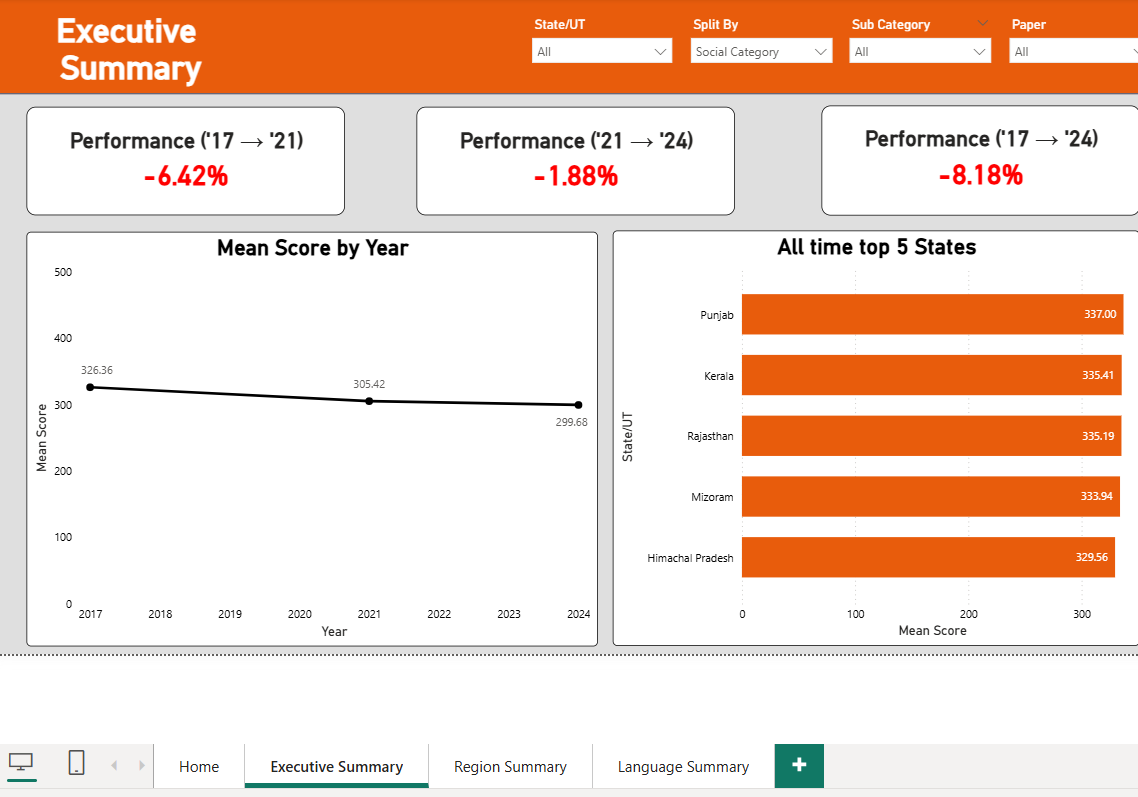

The dashboard page shown, as its layout file describes it:
{"tool":"powerbi","page":{"name":"Executive Summary","canvas":[1280,720],"ordinal":1},"visuals":[{"type":"lineChart","title":"Mean Score by Year","fields":{"Category":["NAS & Parakh Data Combined.Year"],"Y":["Avg(NAS & Parakh Data Combined.Mean Score)"]},"box":[36.1,256.3,627,455.3],"z":0},{"type":"shape","box":[0,0,1280,105.7],"z":1000},{"type":"slicer","fields":{"Values":["NAS & Parakh Data Combined.State/UT"]},"box":[580.3,14.8,173.8,75.4],"z":2000},{"type":"slicer","fields":{"Values":["NAS & Parakh Data Combined.Paper"]},"box":[1104.9,14.8,175.4,75.4],"z":3000},{"type":"slicer","fields":{"Values":["NAS & Parakh Data Combined.Split By"]},"box":[754.1,14.8,175.4,75.4],"z":4000},{"type":"slicer","fields":{"Values":["NAS & Parakh Data Combined.Sub Category"]},"box":[929.5,14.8,175.4,75.4],"z":5000},{"type":"card","title":"Performance (''17 → ''21)","fields":{"Values":["NAS & Parakh Data Combined.Lift_2021"]},"box":[36.1,119.4,349.6,119.4],"z":6000},{"type":"card","title":"Performance (''21 → ''24)","fields":{"Values":["NAS & Parakh Data Combined.Lift 2024 vs 2021"]},"box":[464,119.4,349.6,119.4],"z":7000},{"type":"card","title":"Performance (''17 → ''24)","fields":{"Values":["NAS & Parakh Data Combined.Lift 2024 vs 2017"]},"box":[908.1,118.2,349.6,120.7],"z":8000},{"type":"card","fields":{"Values":["NAS & Parakh Data Combined.Executive Summary"]},"box":[0,0,301,105.7],"z":9000},{"type":"barChart","title":"All time top 5 States","fields":{"Category":["NAS & Parakh Data Combined.State/UT"],"Y":["Avg(NAS & Parakh Data Combined.Mean Score)"]},"box":[678.7,255.7,578.7,455.7],"z":11000}]}

Visuals, with their boxes on the page's 1280x720 design canvas (x1, y1, x2, y2). These are canvas units, not pixel positions in the 1138x797 screenshot, which may show the page scaled, cropped or inside an application window:
"Mean Score by Year" lineChart: [x1=36, y1=256, x2=663, y2=712]
shape: [x1=0, y1=0, x2=1280, y2=106]
slicer - NAS & Parakh Data Combined.State/UT: [x1=580, y1=15, x2=754, y2=90]
slicer - NAS & Parakh Data Combined.Paper: [x1=1105, y1=15, x2=1280, y2=90]
slicer - NAS & Parakh Data Combined.Split By: [x1=754, y1=15, x2=930, y2=90]
slicer - NAS & Parakh Data Combined.Sub Category: [x1=930, y1=15, x2=1105, y2=90]
"Performance (''17 → ''21)" card: [x1=36, y1=119, x2=386, y2=239]
"Performance (''21 → ''24)" card: [x1=464, y1=119, x2=814, y2=239]
"Performance (''17 → ''24)" card: [x1=908, y1=118, x2=1258, y2=239]
card - NAS & Parakh Data Combined.Executive Summary: [x1=0, y1=0, x2=301, y2=106]
"All time top 5 States" barChart: [x1=679, y1=256, x2=1257, y2=711]
